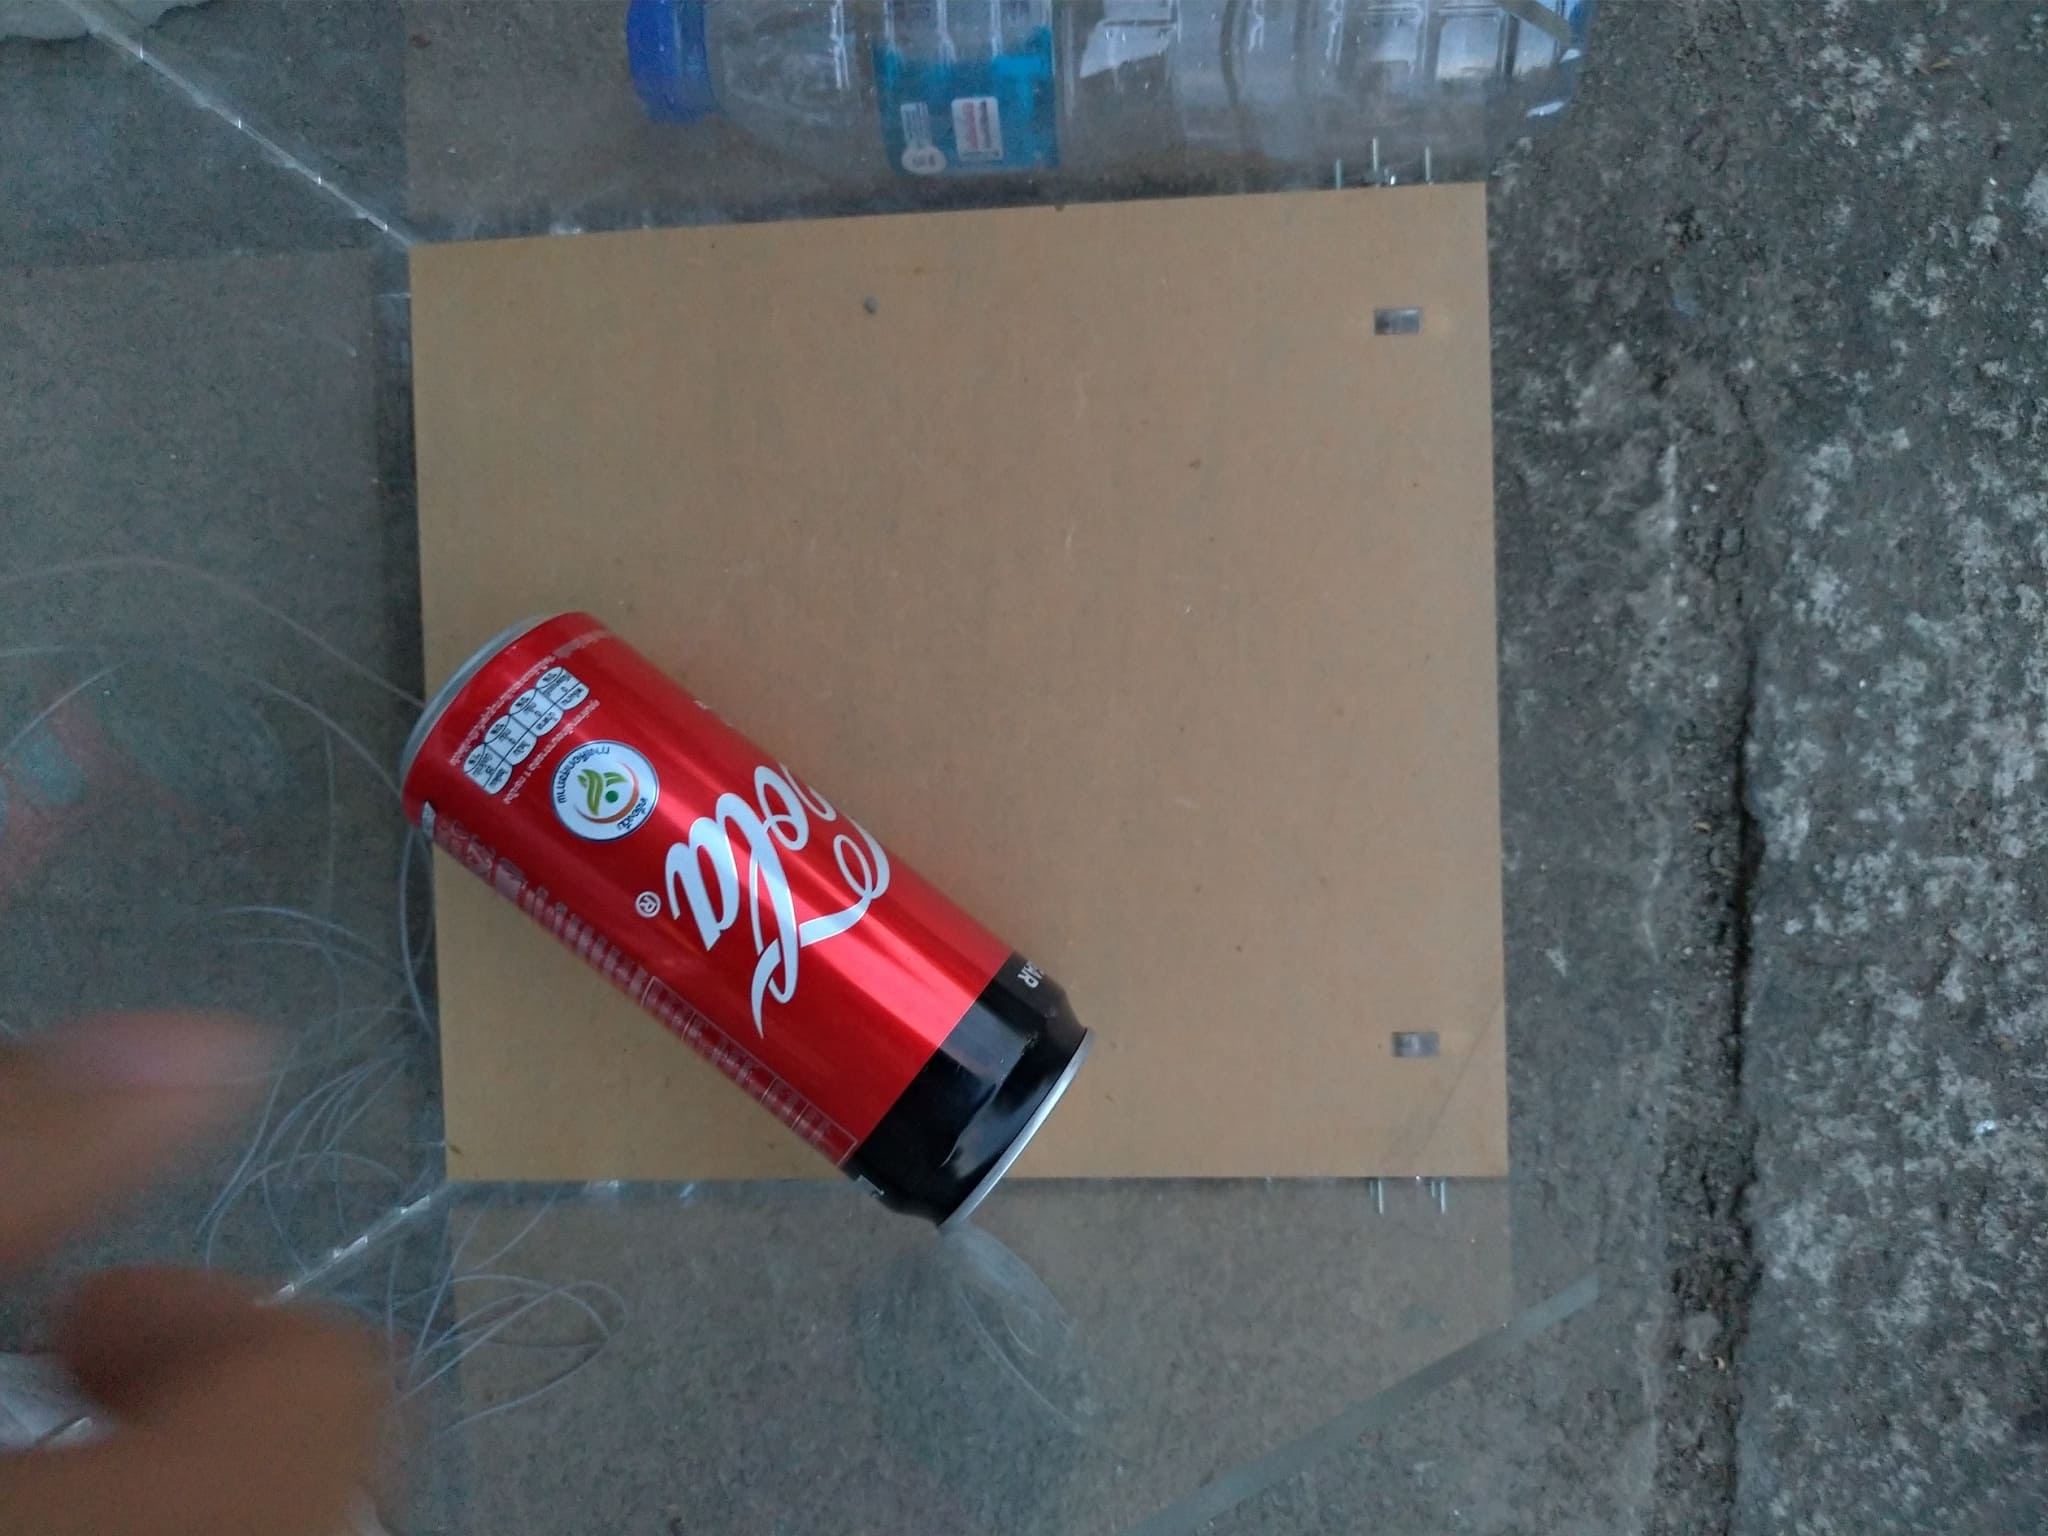AlCan: (397, 611, 1093, 1231)
PlasticBottle: (614, 5, 1587, 181)
